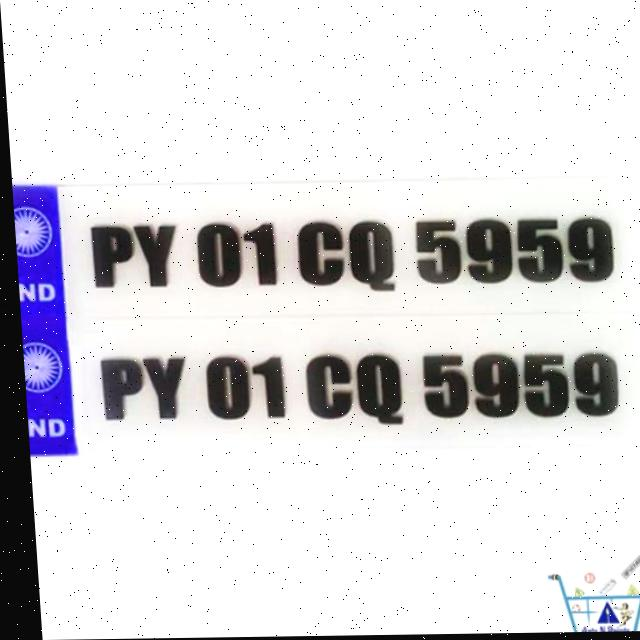plate: (9, 174, 629, 324), (17, 326, 640, 462)
